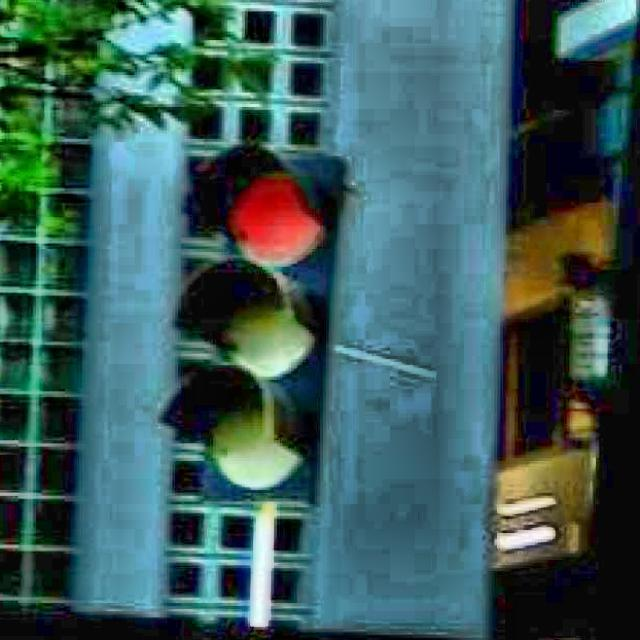red: (178, 144, 344, 508)
